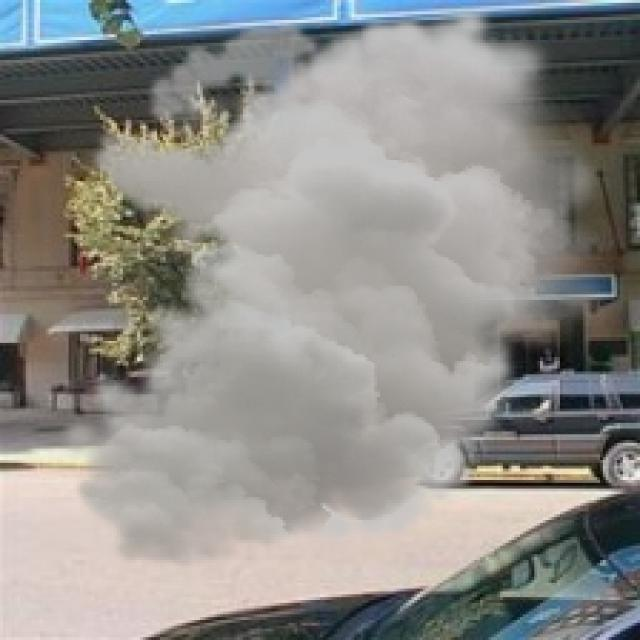smoke: (54, 3, 623, 571)
